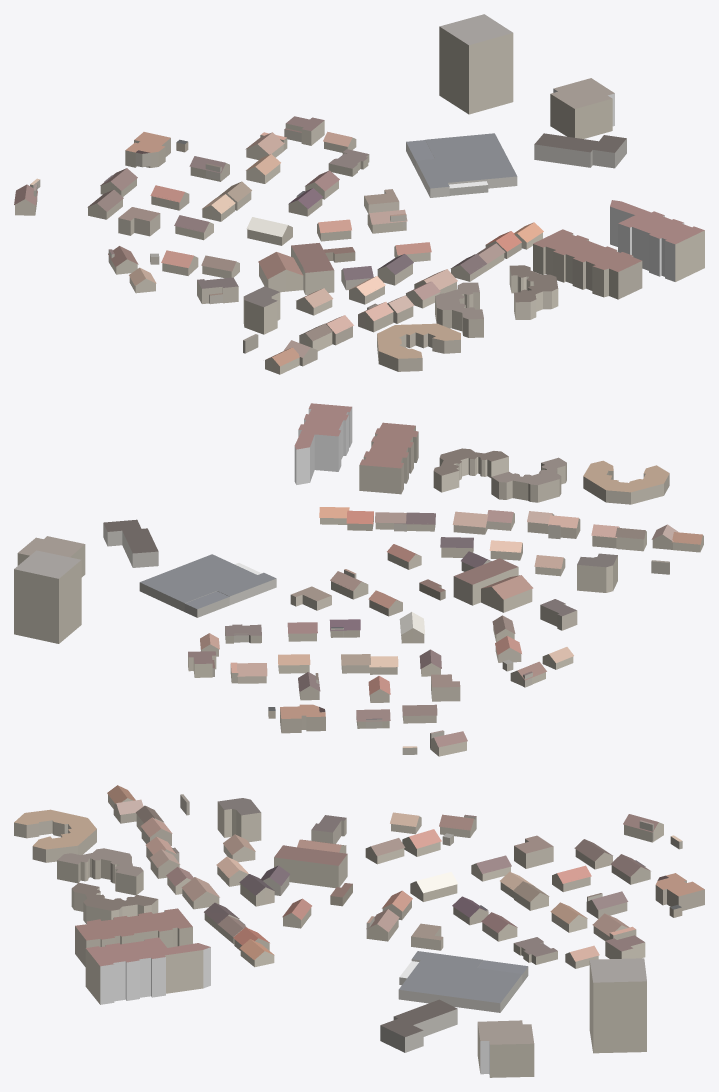
3 renders of one model, top to bottom at view 1: azimuth 30°, elevation 25°; view 2: azimuth 150°, elevation 25°; view 3: azimuth 270°, elevation 25°, orthographic. The views are drawn at different scales.
Visible parts, largest first — view 1: tuile; view 2: tuile; view 3: tuile.
Part boxes in pixels (x1,y1,x2,y2): tuile: [14, 14, 704, 374]; tuile: [14, 403, 703, 756]; tuile: [14, 785, 704, 1077].
Size of the model in its own units: 249 by 36.37 by 276.
